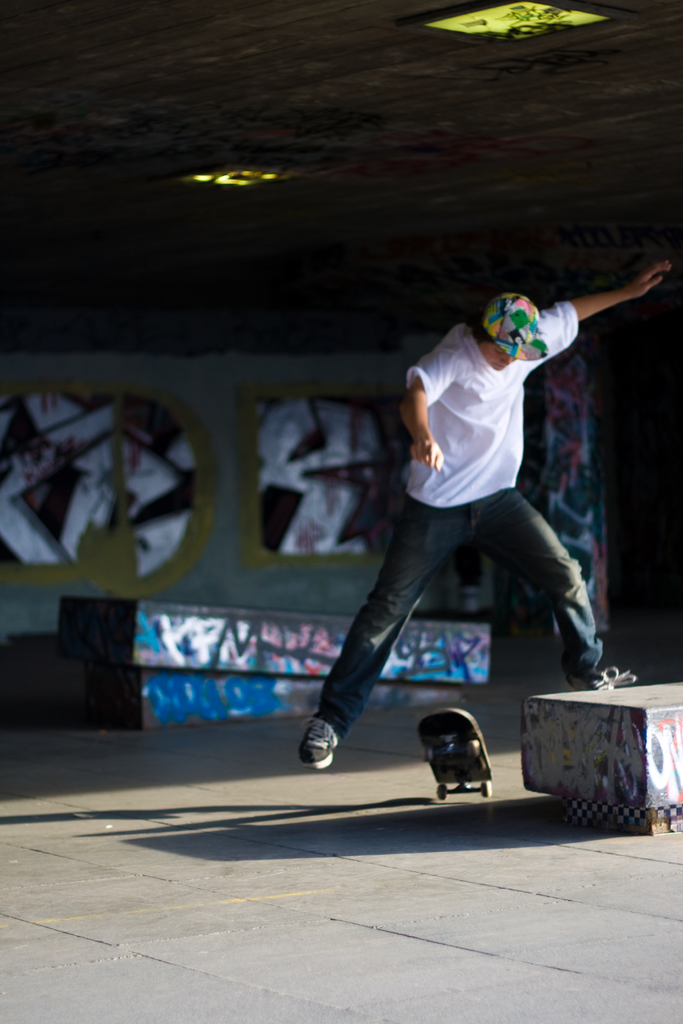Person: (298, 259, 671, 768)
